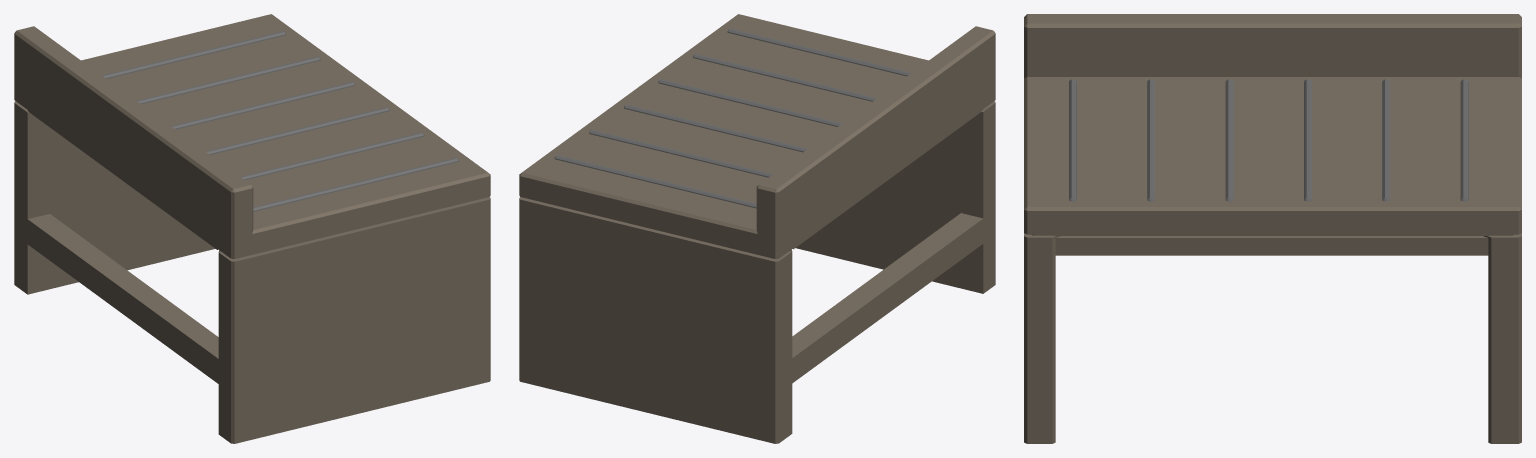
File: LuggageRack.fbx
3 views of the same model, side by side, from view 1: azimuth 30°, elevation 25°; view 2: azimuth 150°, elevation 25°; view 3: azimuth 270°, elevation 25° (orthographic). The views are drawn at different scales.
Parts seen in each view (by area): view 1: LuggageRackTable; view 2: LuggageRackTable; view 3: LuggageRackTable.
Part boxes in pixels (<box>): LuggageRackTable: <box>14,14,490,443</box>; LuggageRackTable: <box>519,14,995,443</box>; LuggageRackTable: <box>1024,14,1521,443</box>.
Bounding box in the file's own units: 2.13 × 1.99 × 3.12.
